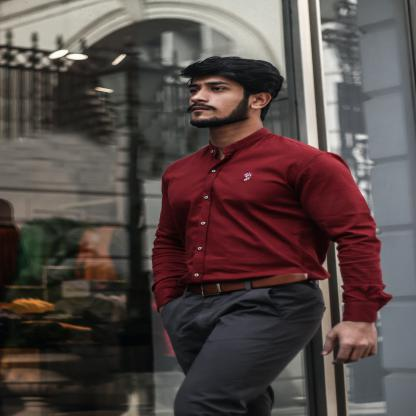Eye: (211, 86, 227, 92), (190, 88, 200, 94)
Mouth: (191, 106, 211, 112)
Nose: (191, 89, 208, 103)
